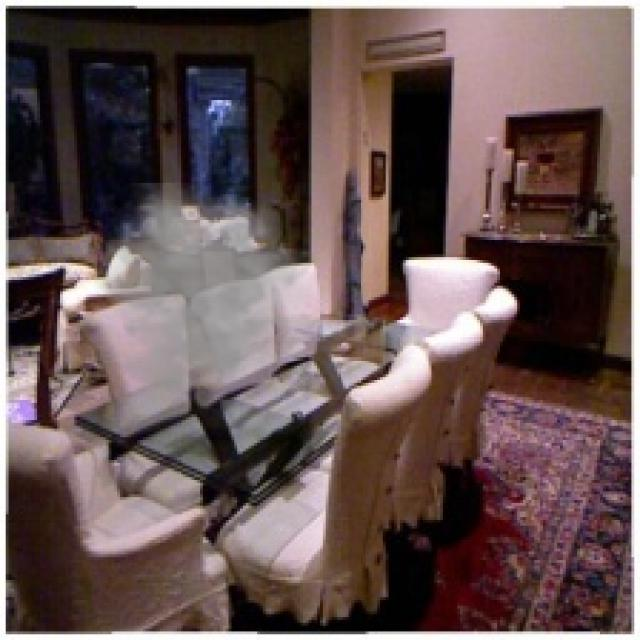smoke: (89, 183, 320, 408)
